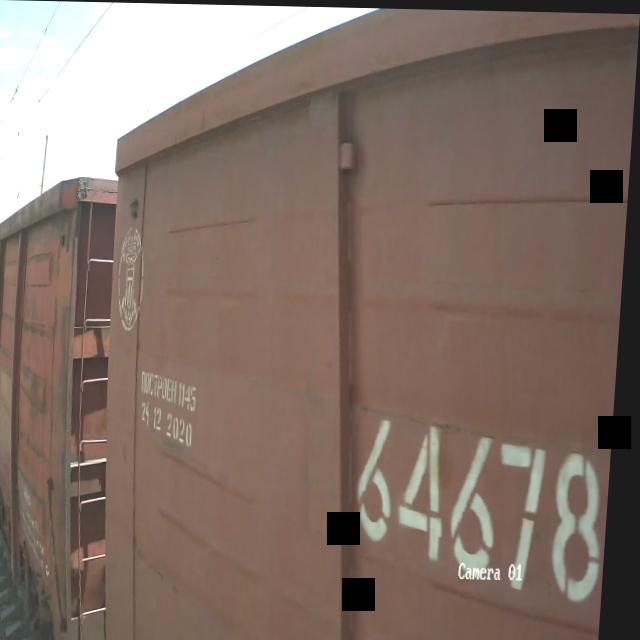gondola: (74, 2, 640, 640), (0, 156, 129, 640)
